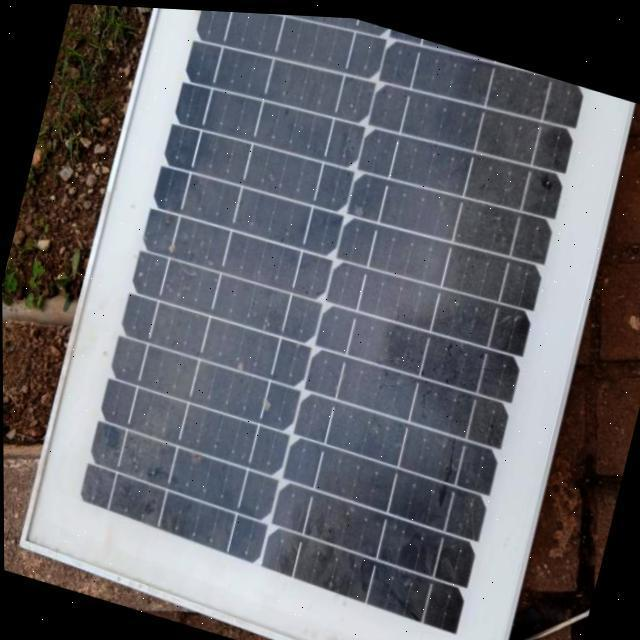Surface Contaminant: (53, 8, 604, 640)
